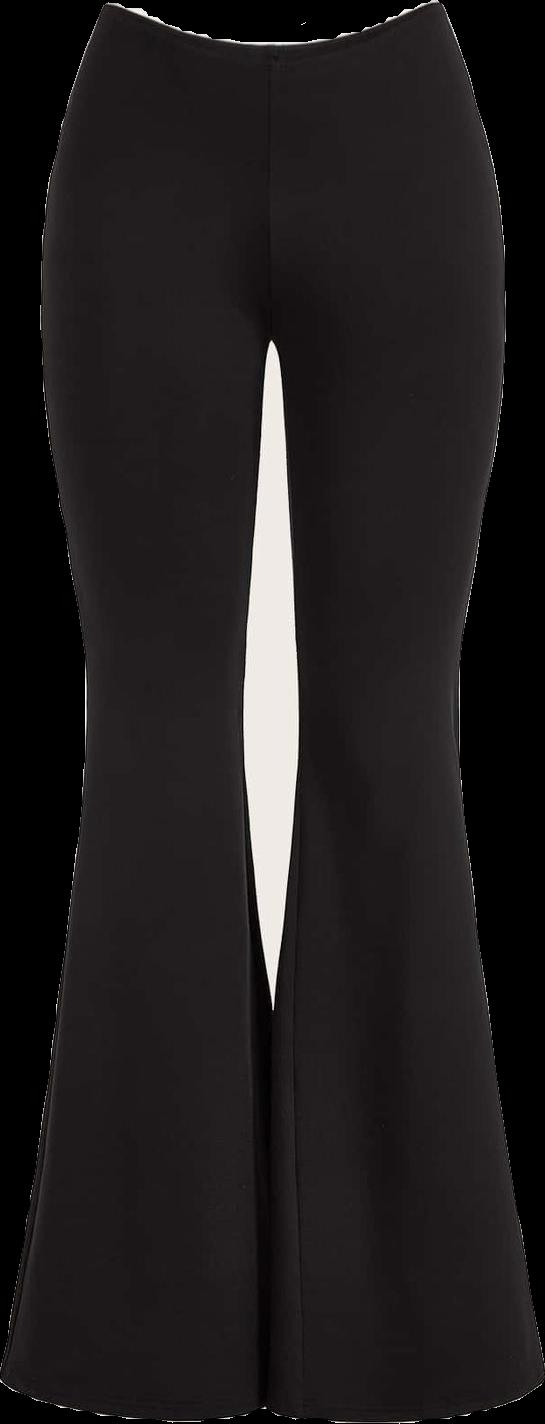Hemline: (0, 1364, 282, 1420), (269, 1369, 544, 1422)
Pantleg: (0, 4, 274, 1419), (274, 3, 544, 1420)
Waistline: (102, 0, 439, 59)
